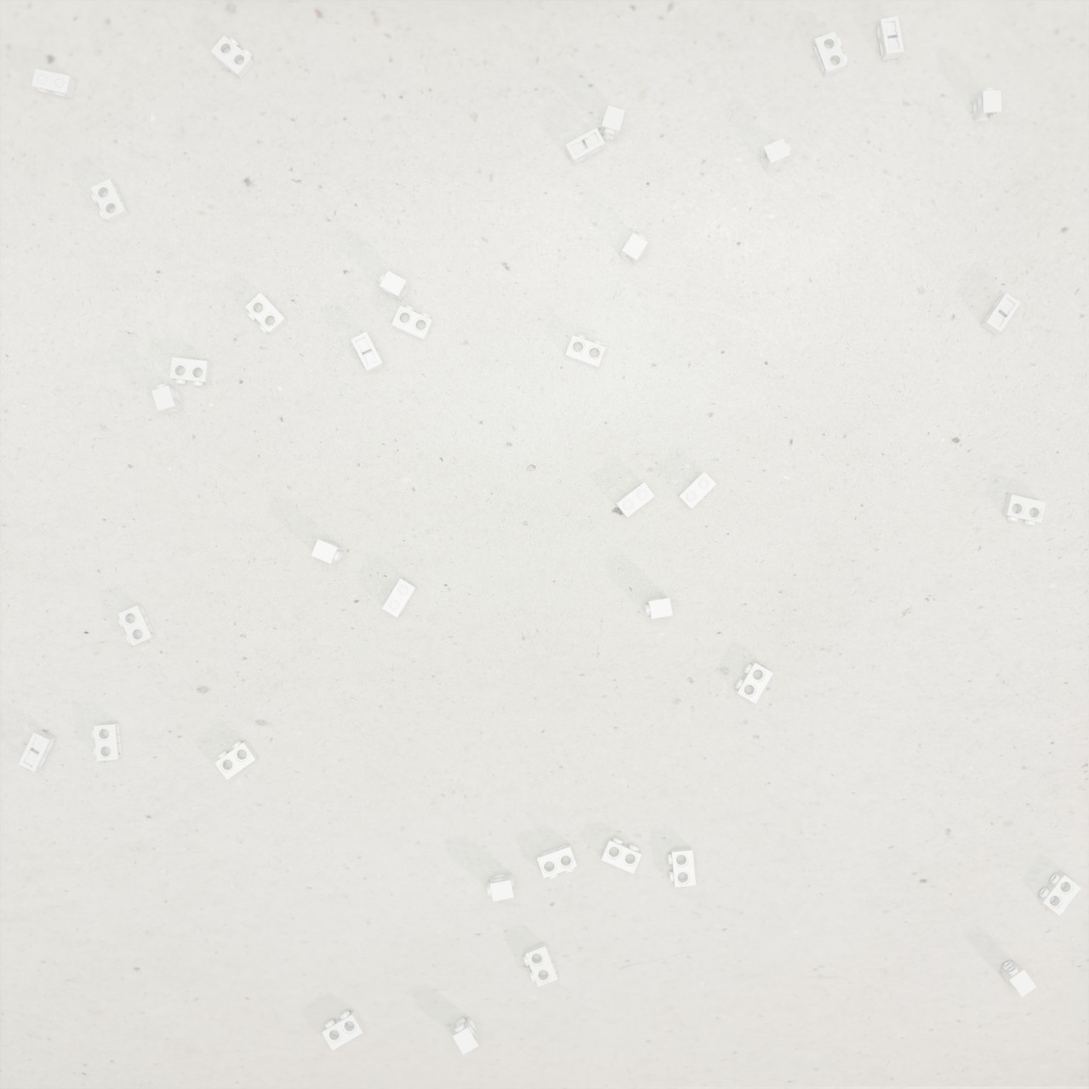lego: (1037, 871, 1081, 916), (210, 35, 254, 79), (245, 292, 288, 335), (322, 1009, 365, 1051), (215, 740, 259, 780), (91, 178, 130, 223), (981, 293, 1021, 335), (812, 31, 848, 77), (735, 661, 773, 704), (18, 730, 56, 772), (523, 942, 558, 987), (118, 605, 156, 646), (600, 837, 642, 874), (391, 305, 433, 342), (677, 471, 717, 509), (565, 127, 605, 165), (615, 482, 655, 518), (537, 843, 577, 879), (565, 334, 606, 369), (351, 331, 385, 373), (1002, 494, 1046, 526), (999, 960, 1037, 997), (382, 578, 417, 618), (31, 69, 76, 99), (876, 16, 904, 61), (92, 722, 123, 761), (170, 357, 211, 386), (668, 847, 696, 887), (759, 138, 791, 172), (452, 1017, 480, 1055), (379, 270, 410, 302), (973, 88, 1002, 122), (620, 232, 648, 267), (151, 384, 183, 414), (600, 105, 625, 141), (487, 872, 515, 902), (311, 539, 343, 564), (644, 597, 673, 619)
